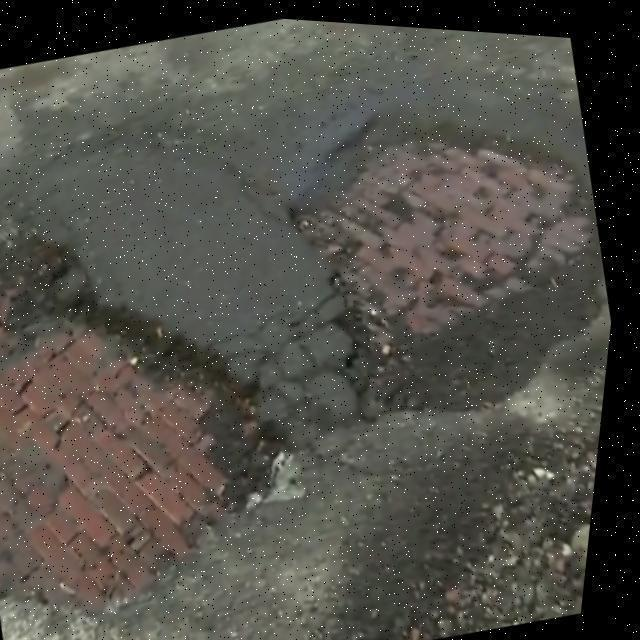Pothole: (0, 215, 282, 621), (283, 106, 606, 429)
